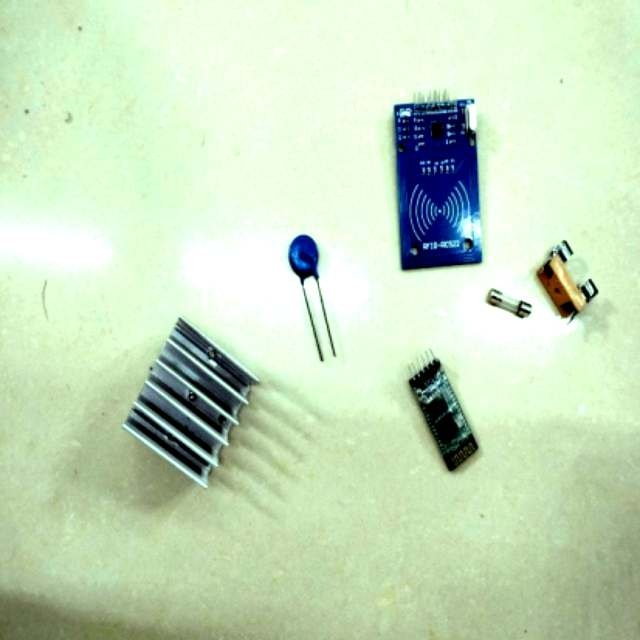capacitor: (289, 235, 334, 357)
